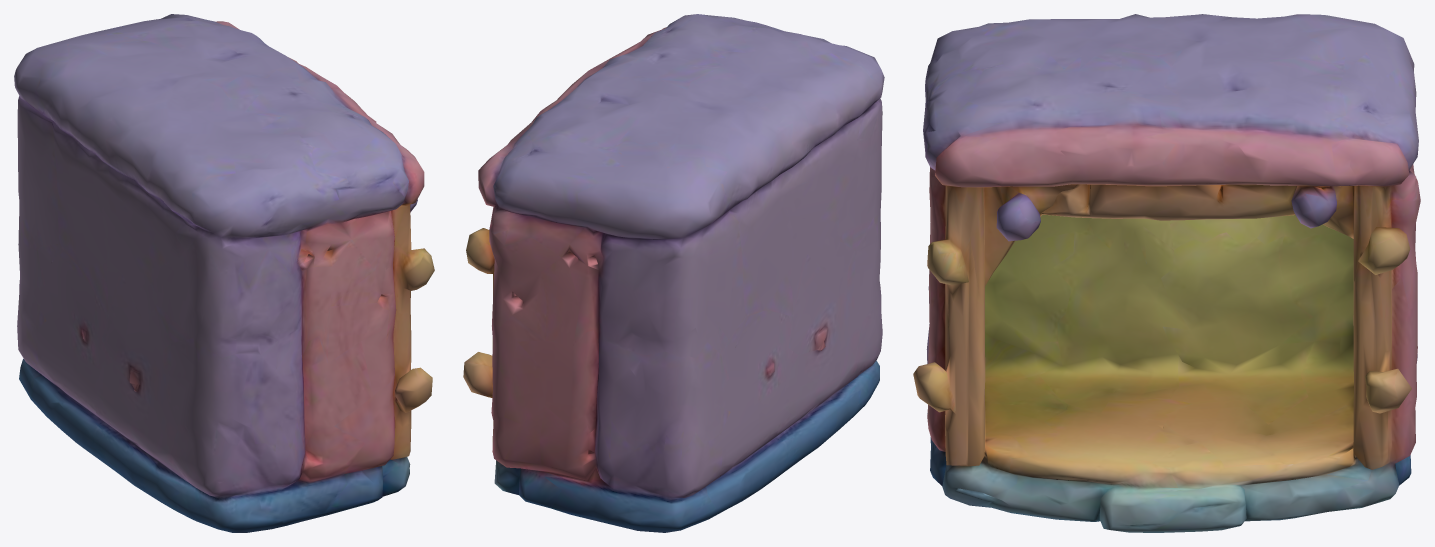
The model's file is stage.glb.
The picture shows the model from 3 angles, left to right: view 1: azimuth 30°, elevation 25°; view 2: azimuth 150°, elevation 25°; view 3: azimuth 270°, elevation 25°; orthographic projection. The views are drawn at different scales.
Visible parts, largest first — view 1: tripo_node_ac373d89-f9c7-4c3c-84b5-9c9b02fed411; view 2: tripo_node_ac373d89-f9c7-4c3c-84b5-9c9b02fed411; view 3: tripo_node_ac373d89-f9c7-4c3c-84b5-9c9b02fed411.
Part boxes in pixels (x1,y1,x2,y2): tripo_node_ac373d89-f9c7-4c3c-84b5-9c9b02fed411: (14, 14, 434, 532); tripo_node_ac373d89-f9c7-4c3c-84b5-9c9b02fed411: (463, 14, 884, 532); tripo_node_ac373d89-f9c7-4c3c-84b5-9c9b02fed411: (913, 14, 1420, 532).
Bounding box in the file's own units: 0.684 × 0.8777 × 1.
Materials: 1 (1 with a texture image).
